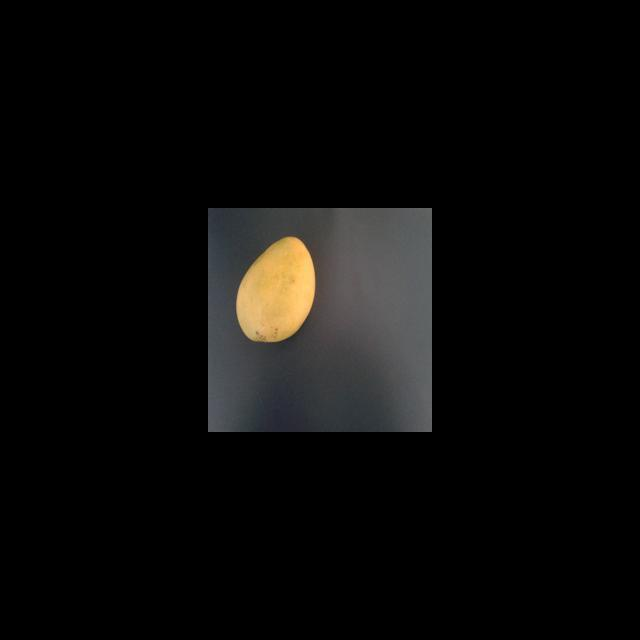Mango: (235, 235, 316, 343)
